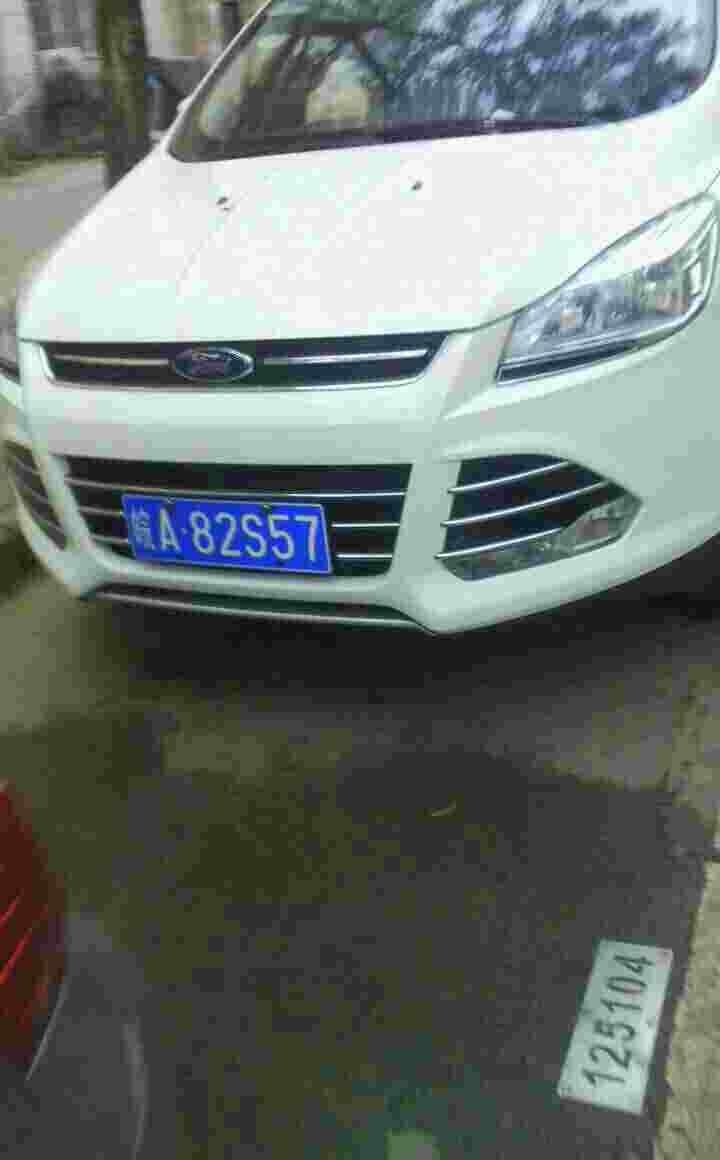license_plate: (120, 493, 335, 580)
